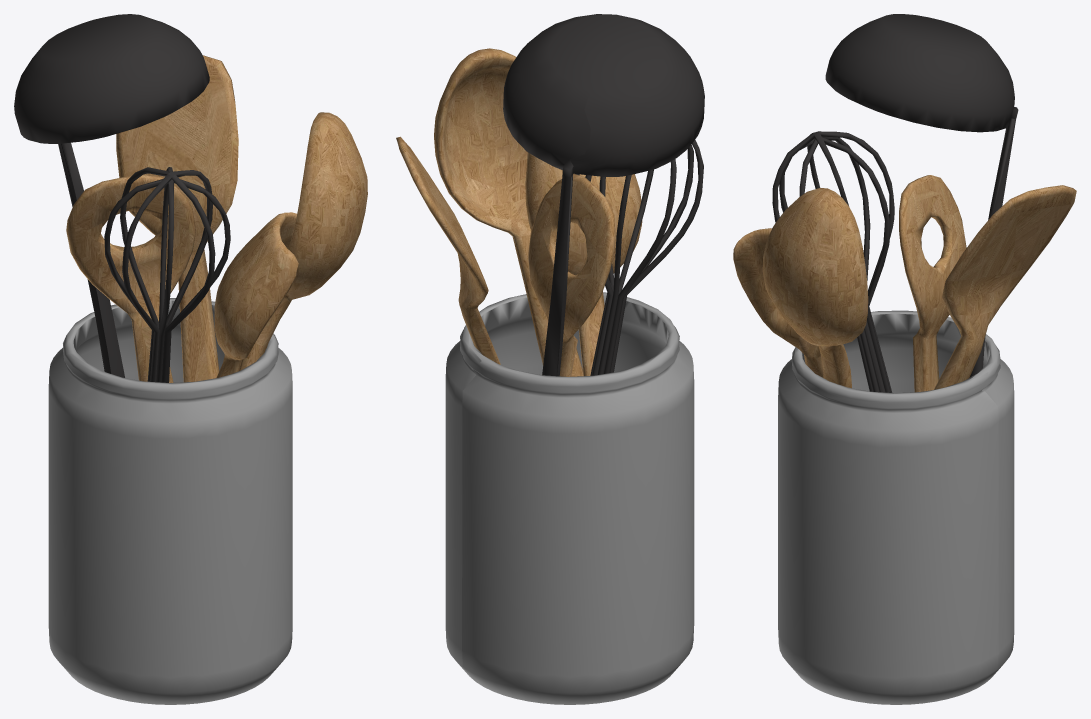
Rendered from kacchul_2.gltf.
3 views of the same model, side by side, from view 1: azimuth 30°, elevation 25°; view 2: azimuth 150°, elevation 25°; view 3: azimuth 270°, elevation 25° (orthographic). The views are drawn at different scales.
Parts seen in each view (by area): view 1: utensils_glass 70% 70% 70% 70%; view 2: utensils_glass 70% 70% 70% 70%; view 3: utensils_glass 70% 70% 70% 70%.
Boxes of the visible parts, box(x1,y1,x2,y2) form: utensils_glass 70% 70% 70% 70%: box(14, 14, 367, 704); utensils_glass 70% 70% 70% 70%: box(396, 14, 704, 704); utensils_glass 70% 70% 70% 70%: box(733, 14, 1076, 704).
Size of the model in its own units: 0.3997 by 0.8377 by 0.4226.
Materials: 3 (1 with a texture image).
